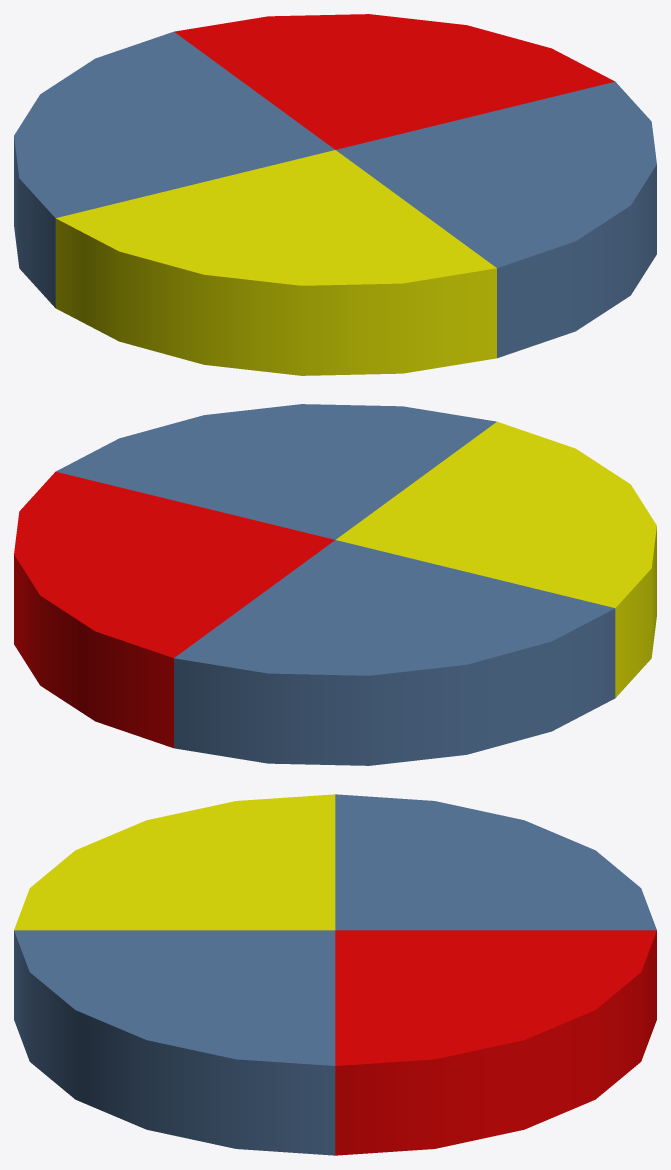
The model's file is 3_renk_sari_mavi_kirmizi.fbx.
The picture shows the model from 3 angles, top to bottom: view 1: azimuth 30°, elevation 25°; view 2: azimuth 150°, elevation 25°; view 3: azimuth 270°, elevation 25°; orthographic projection.
Parts seen in each view (by area): view 1: pCylinder3; view 2: pCylinder3; view 3: pCylinder3.
Boxes of the visible parts, x1,y1,x2,y2 form: pCylinder3: [14, 14, 656, 375]; pCylinder3: [14, 404, 656, 765]; pCylinder3: [14, 794, 656, 1155].
Bounding box in the file's own units: 6.28 × 0.9651 × 6.28.
